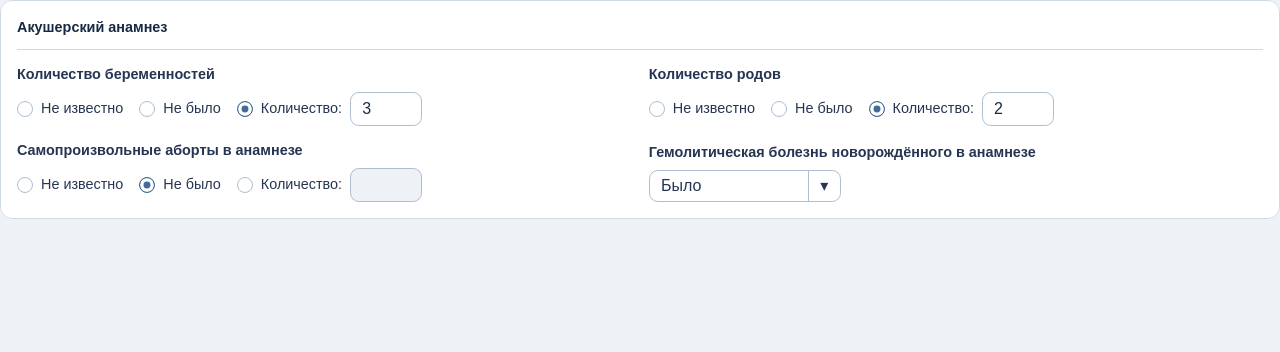
shows a saved Да choice as Было without rewriting the saved data
Click the button with aria-label "Гемолитическая болезнь новорождённого в анамнезе" at (745, 186), box top-left (649, 170), bottom-right (841, 202)
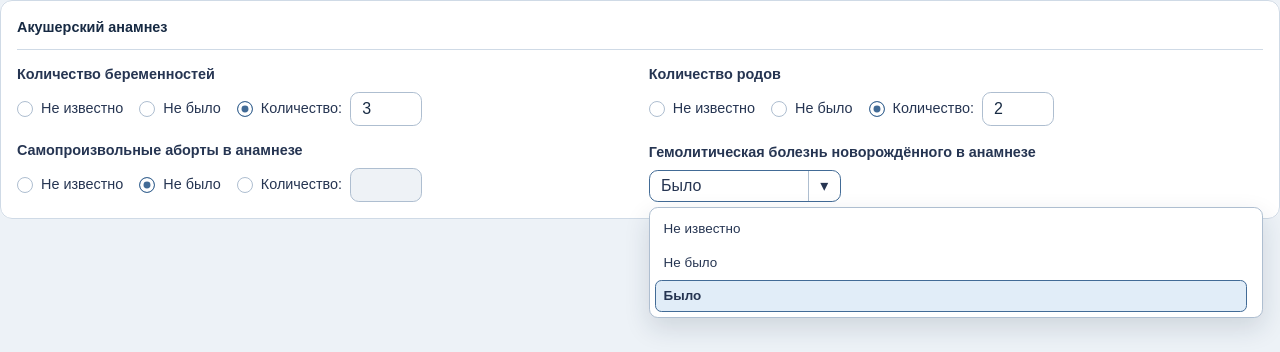
Expected: the option "Было" is shown, top-left (655, 280), bottom-right (1247, 312)
